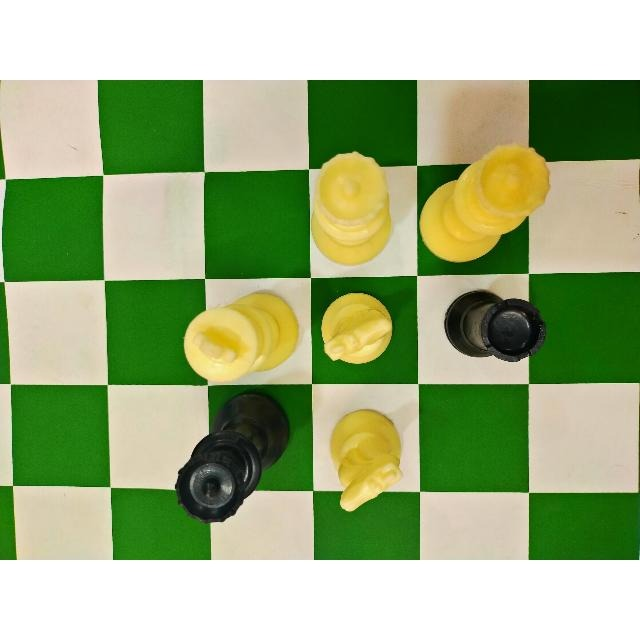black-queen: (171, 387, 292, 527)
black-rook: (443, 287, 548, 362)
white-king: (181, 289, 300, 384)
white-knight: (327, 403, 406, 515), (319, 290, 394, 365)
white-queen: (419, 145, 553, 266), (310, 149, 394, 269)
